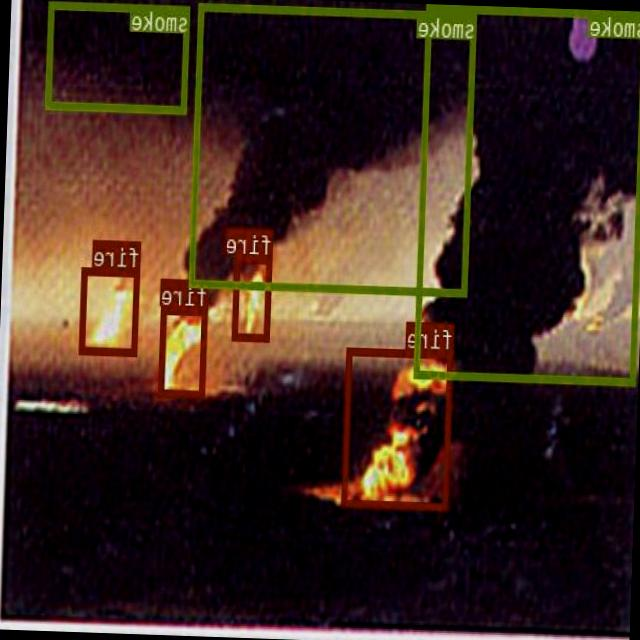fire: (342, 346, 455, 510), (80, 265, 140, 354), (159, 304, 209, 397), (234, 254, 274, 338)
smoke: (414, 3, 640, 385), (190, 2, 477, 294), (46, 0, 192, 113)
